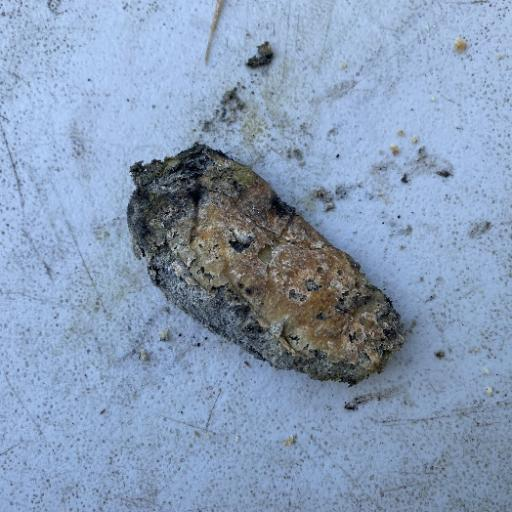Waste: (124, 141, 407, 387)
